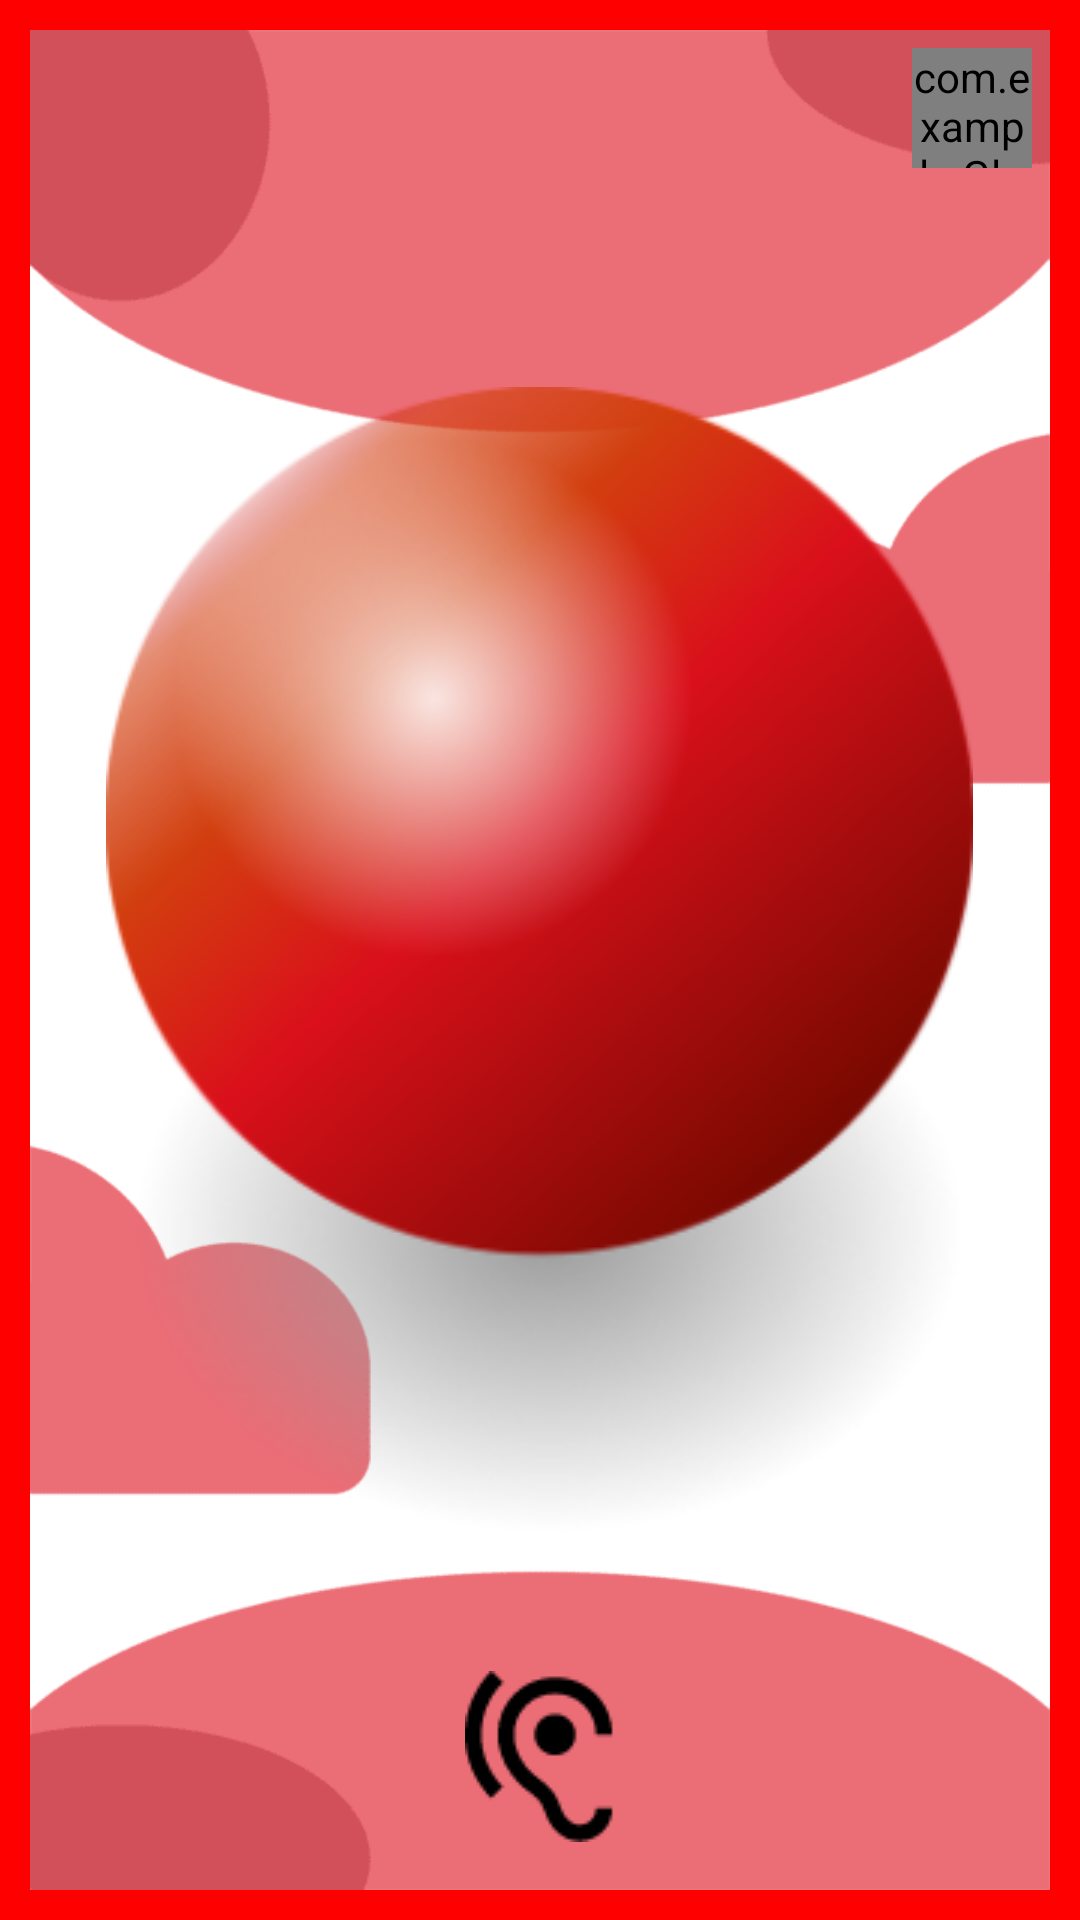

Icons on this 1080px x 1920px Android screen, each with its box as {"x1": x1, "y1": y1, "x2": x2, "y2": y2}:
pictogram oortje: {"x1": 465, "y1": 1671, "x2": 613, "y2": 1842}
